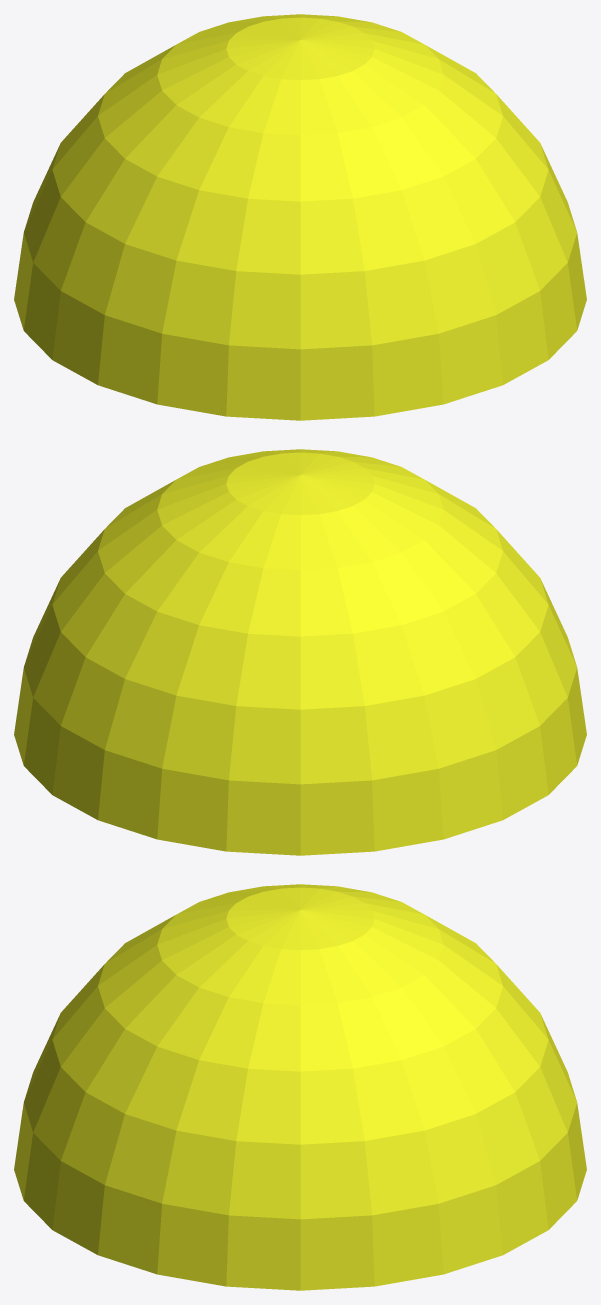
The model's file is yellow_100_opacity_dome.dae.
The picture shows the model from 3 angles, top to bottom: view 1: azimuth 30°, elevation 25°; view 2: azimuth 150°, elevation 25°; view 3: azimuth 270°, elevation 25°; orthographic projection.
Visible parts, largest first — view 1: Component1; view 2: Component1; view 3: Component1.
Boxes of the visible parts, x1=… form: Component1: x1=14, y1=14, x2=586, y2=420; Component1: x1=14, y1=449, x2=586, y2=855; Component1: x1=14, y1=884, x2=586, y2=1290.
Bounding box in the file's own units: 245371 × 245371 × 132150.
